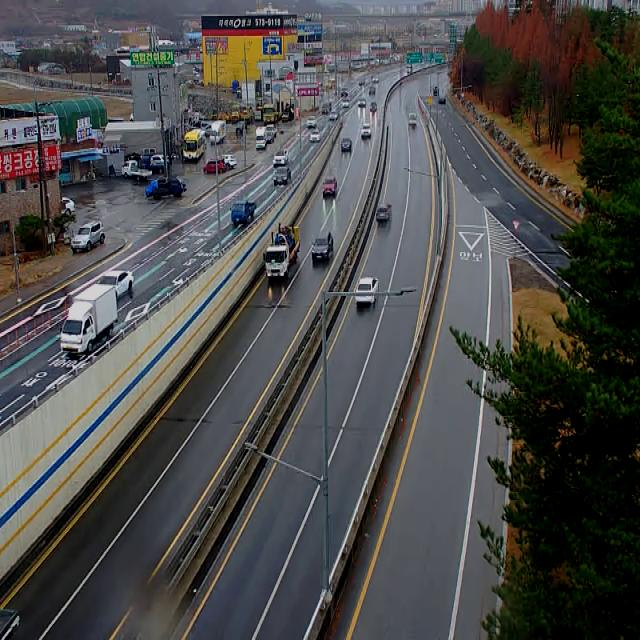Bus: (183, 129, 205, 159)
Car: (71, 220, 105, 254), (96, 270, 134, 298), (312, 232, 333, 261), (356, 278, 379, 304), (273, 167, 291, 185), (322, 176, 337, 197), (377, 203, 392, 222), (203, 161, 224, 174), (61, 197, 75, 216), (273, 150, 288, 166), (223, 155, 237, 170), (150, 155, 170, 165), (281, 109, 294, 122), (361, 123, 371, 138), (266, 125, 277, 138), (341, 138, 352, 151), (310, 129, 321, 142), (236, 122, 247, 134), (306, 116, 316, 128), (322, 102, 332, 114), (329, 110, 338, 121), (266, 133, 274, 144), (358, 98, 366, 108), (370, 101, 378, 111), (369, 86, 376, 96), (343, 99, 350, 108), (438, 96, 446, 103)
Truck: (61, 286, 118, 354), (263, 227, 300, 280), (151, 177, 187, 200), (230, 200, 257, 226), (122, 161, 152, 181), (138, 155, 164, 173), (210, 119, 226, 145), (262, 105, 278, 123), (256, 127, 266, 150), (409, 113, 417, 126)
